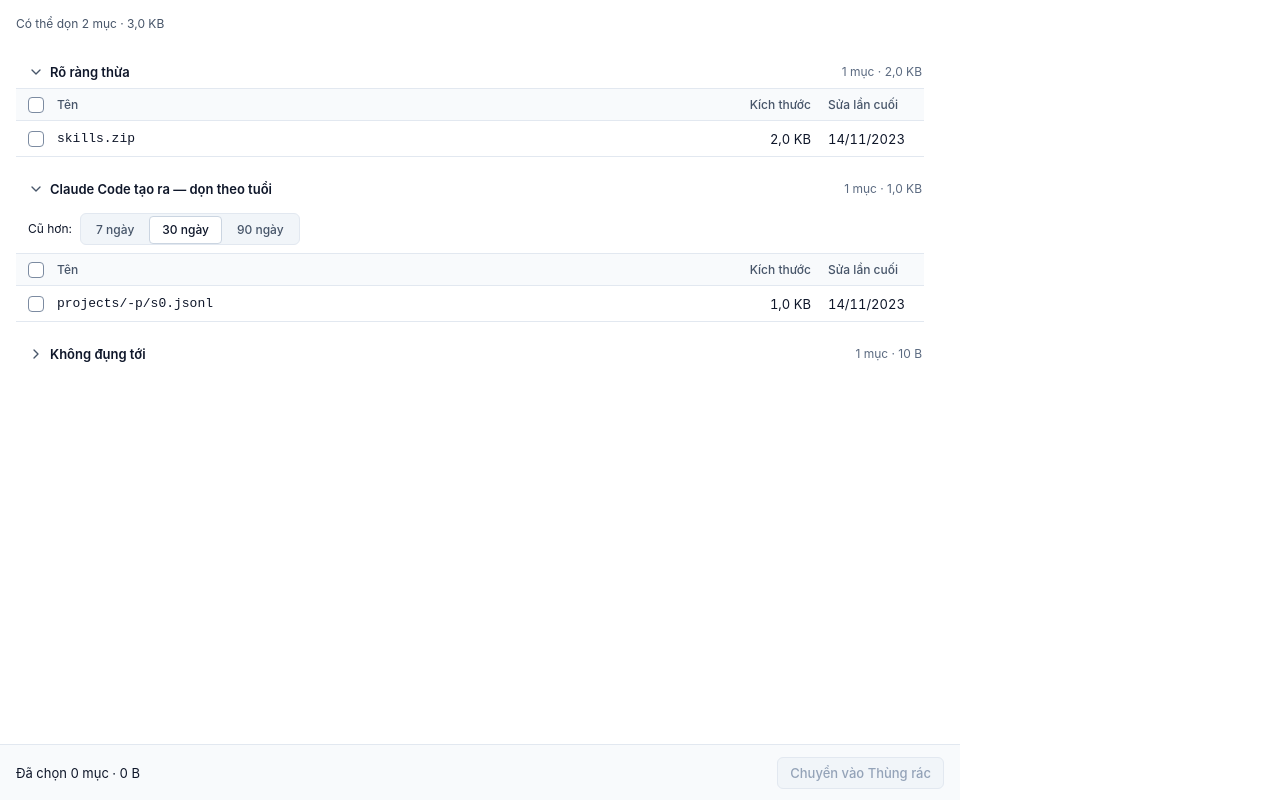
Test case: <CleanupPanel /> › a group checkbox ticks all of its rows and shows a partial selection as indeterminate
The width and height of the screenshot is (1280, 800).
What coordinates should you click on to do the following:
click the radio button labelled "7 ngày"
I would click on:
 (115, 230)
Its box is x1=83 y1=216 x2=147 y2=244.
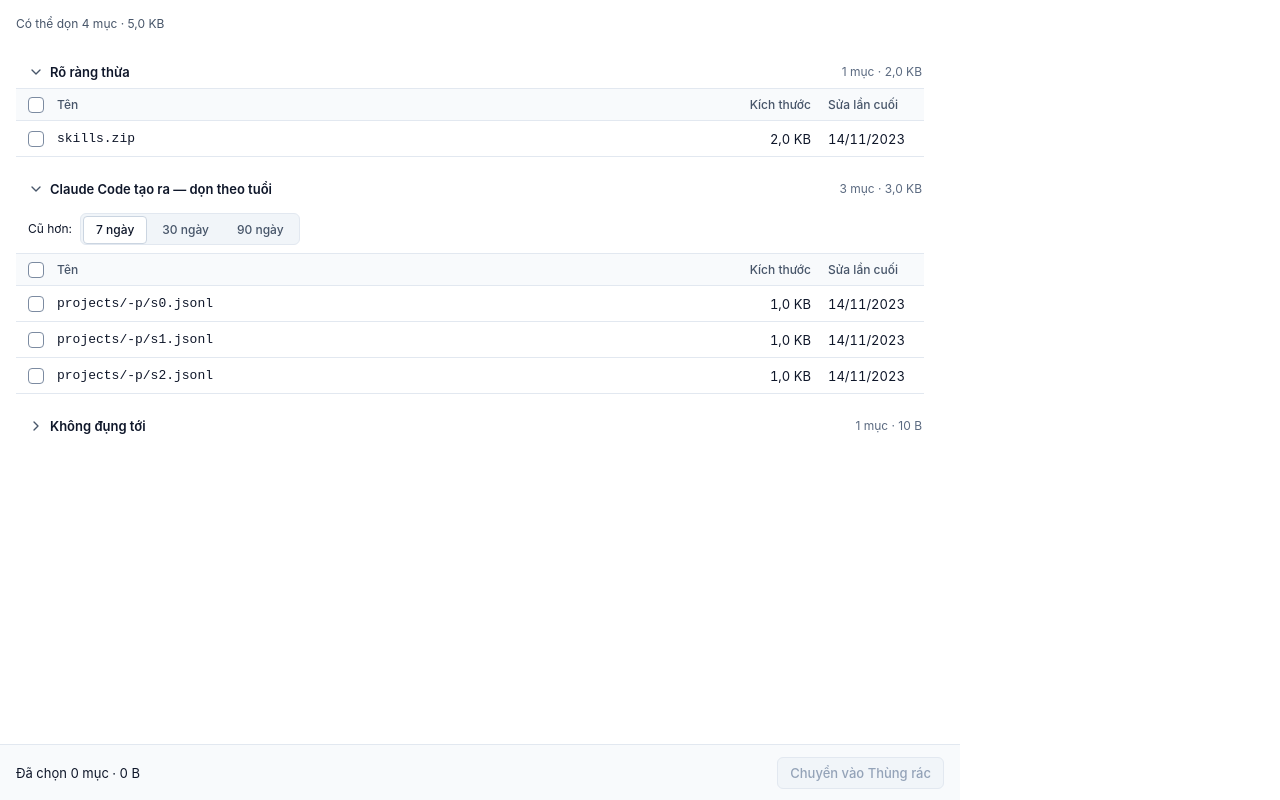
Expected: the text "projects/-p/s2.jsonl" is shown, x1=56 y1=358 x2=716 y2=394
What coordinates should you click on to do the following:
click the checkbox named "projects/-p/s0.jsonl"
I would click on:
 (36, 304)
Its box is x1=28 y1=296 x2=44 y2=312.
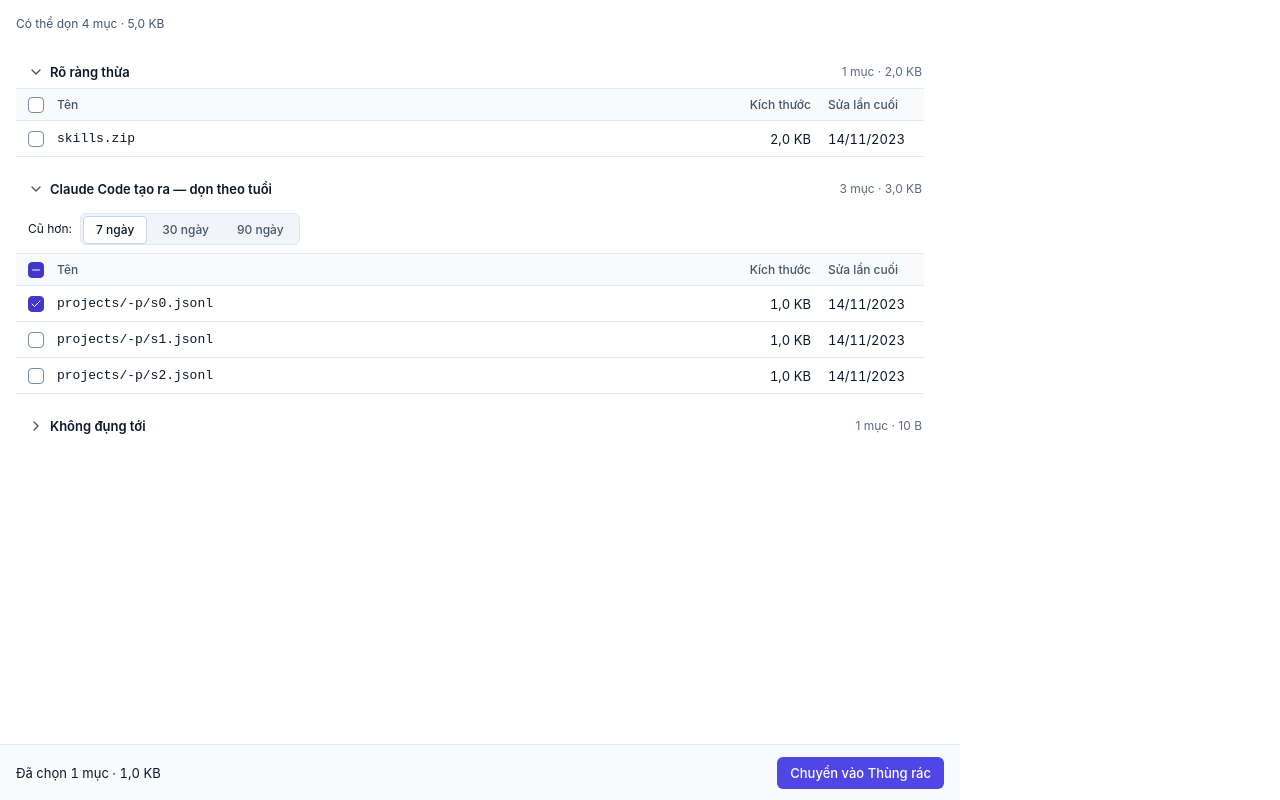
What coordinates should you click on to do the following:
click the checkbox named "Chọn tất cả trong Claude Code tạo ra — dọn theo tuổi"
I would click on:
 (36, 270)
Its box is x1=28 y1=262 x2=44 y2=278.
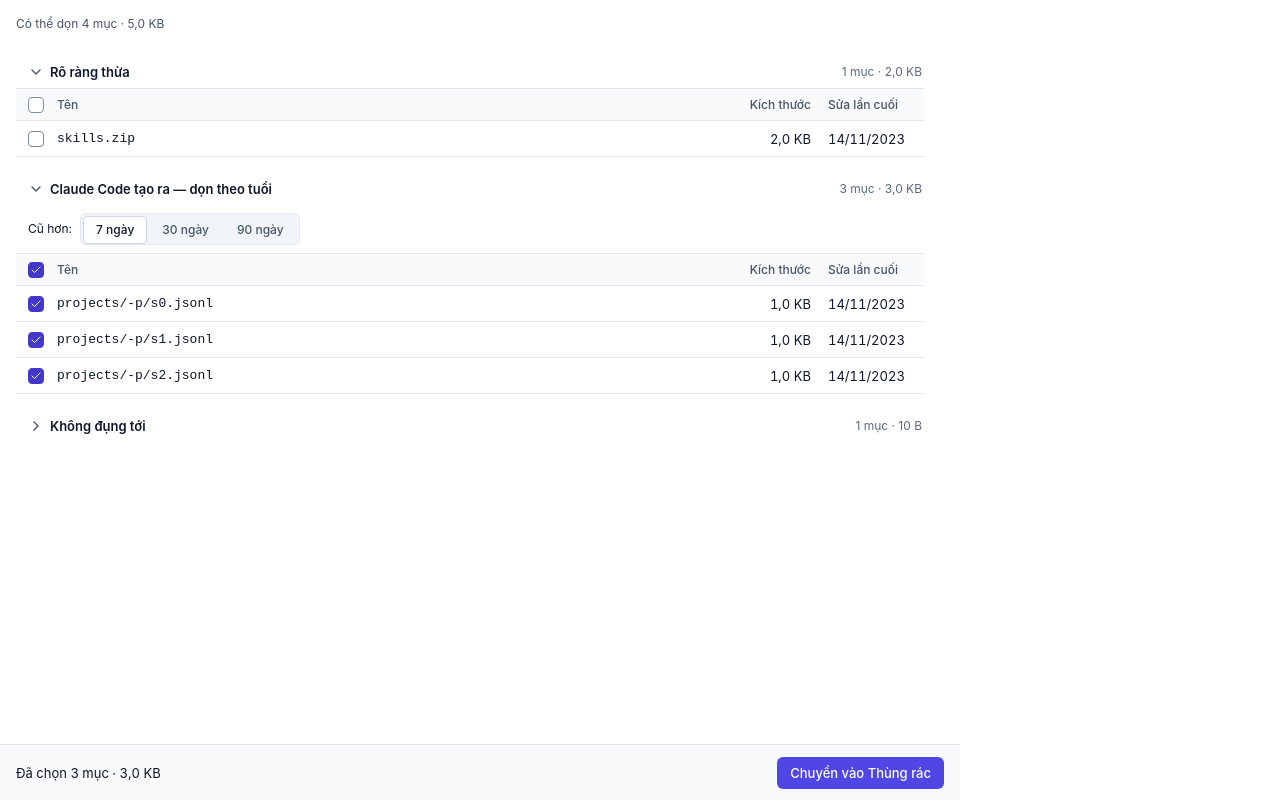
Expected: the text "Đã chọn 3 mục · 3,0 KB" is shown, x1=16 y1=762 x2=161 y2=782
